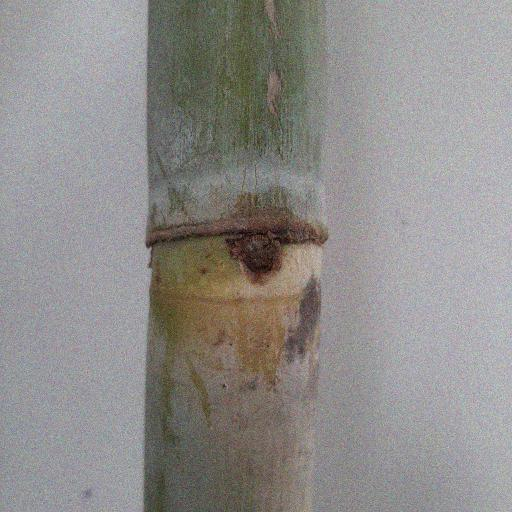Bud: (239, 235, 279, 276)
